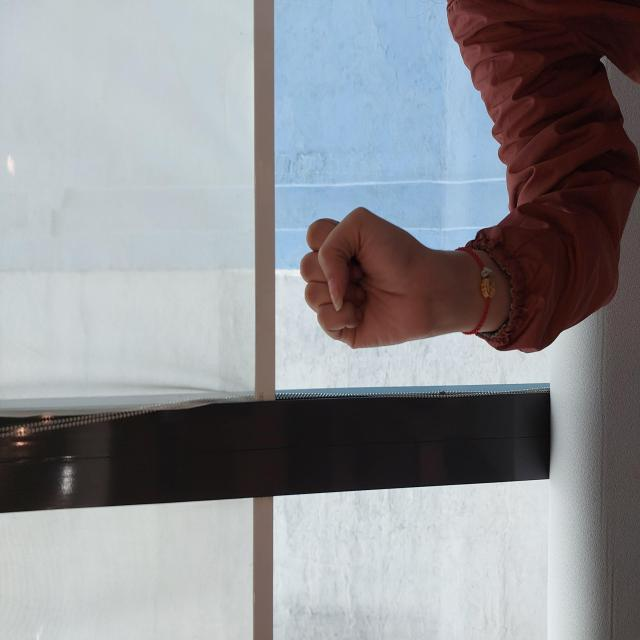S: (288, 298, 437, 444)
